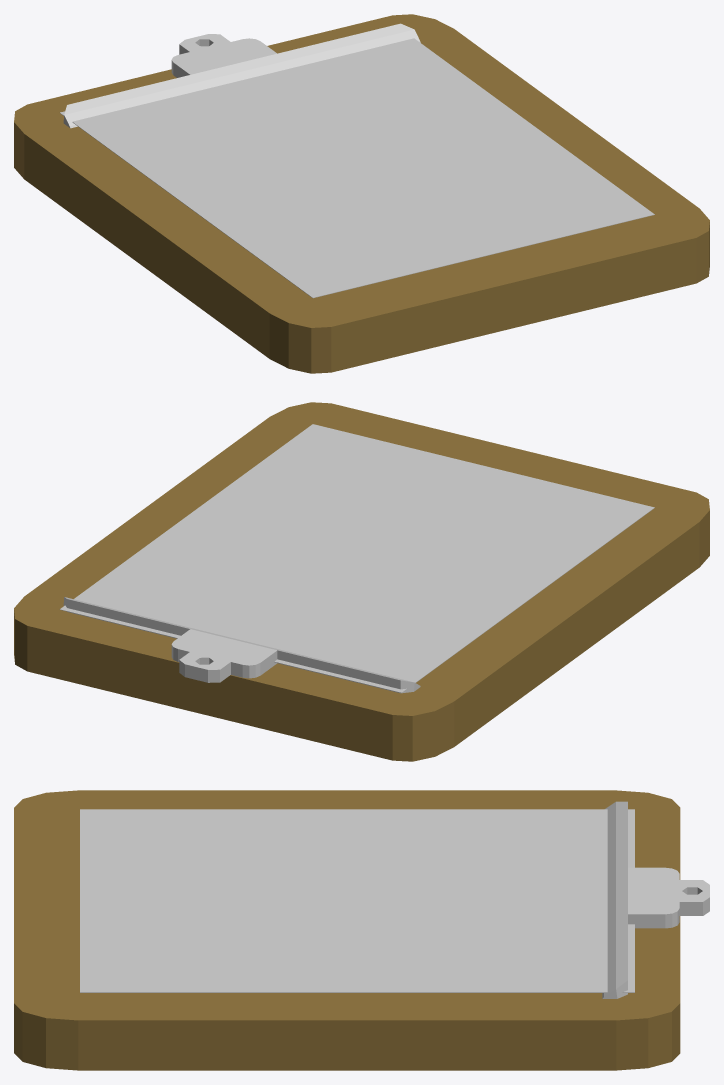
The model's file is Portapapeles.fbx.
3 views of the same model, one above another, from view 1: azimuth 30°, elevation 25°; view 2: azimuth 150°, elevation 25°; view 3: azimuth 270°, elevation 25° (orthographic). The views are drawn at different scales.
Visible parts, largest first — view 1: Cube.002, Cube, Cube.001; view 2: Cube.002, Cube, Cube.001; view 3: Cube.002, Cube, Cube.001.
Boxes of the visible parts, left/top/right/bottom form: Cube.002: left=60, top=38, right=654, bottom=298; Cube: left=14, top=14, right=709, bottom=373; Cube.001: left=63, top=23, right=420, bottom=128; Cube.002: left=59, top=424, right=654, bottom=693; Cube: left=14, top=402, right=709, bottom=761; Cube.001: left=63, top=597, right=420, bottom=693; Cube.002: left=80, top=809, right=634, bottom=992; Cube: left=14, top=790, right=680, bottom=1070; Cube.001: left=602, top=801, right=709, bottom=998.
Size of the model in its own units: 573 by 74.87 by 732.
